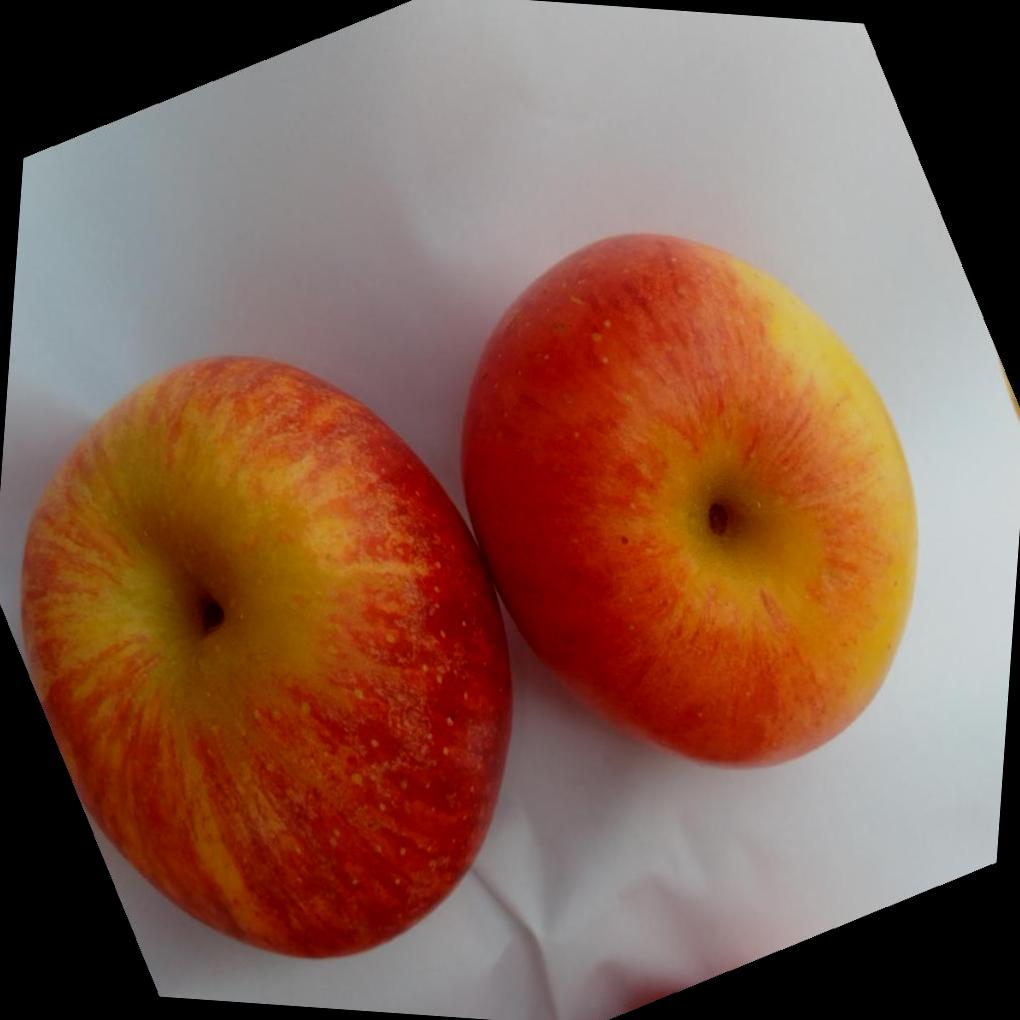FreshGuava: (11, 232, 921, 963)
